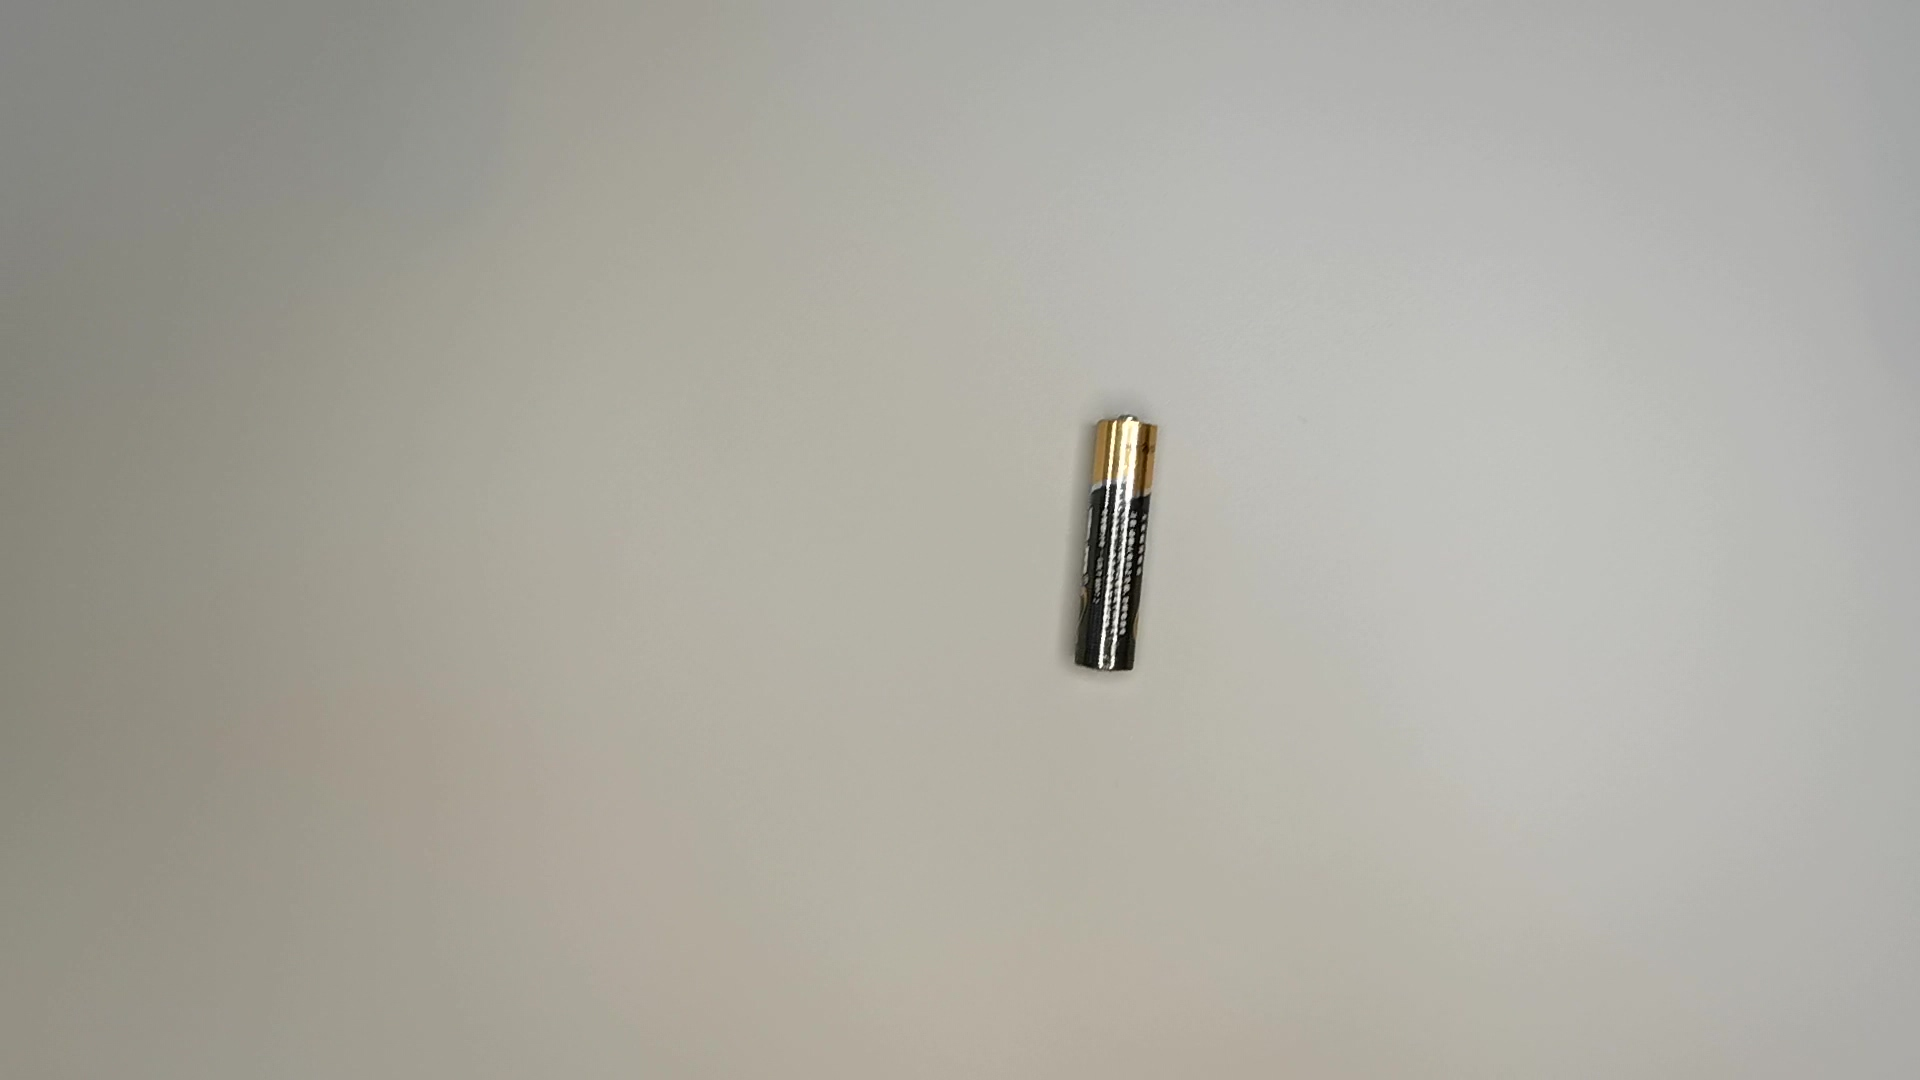battery: (1069, 411, 1163, 671)
